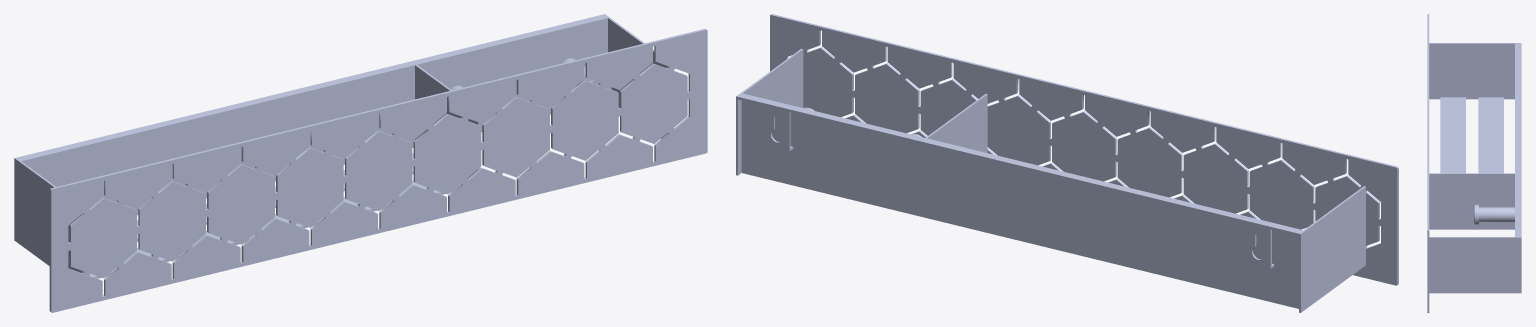
Rendered from bee-patron.231e147ce5.glb.
3 views of the same model, side by side, from view 1: azimuth 30°, elevation 25°; view 2: azimuth 150°, elevation 25°; view 3: azimuth 270°, elevation 25° (orthographic). The views are drawn at different scales.
Visible parts, largest first — view 1: NAUO1; view 2: NAUO1; view 3: NAUO1.
Boxes of the visible parts, x1,y1,x2,y2 form: NAUO1: (14,14,707,312); NAUO1: (736,14,1398,312); NAUO1: (1427,14,1521,312).
Size of the model in its own units: 0.5 by 0.09 by 0.092.
